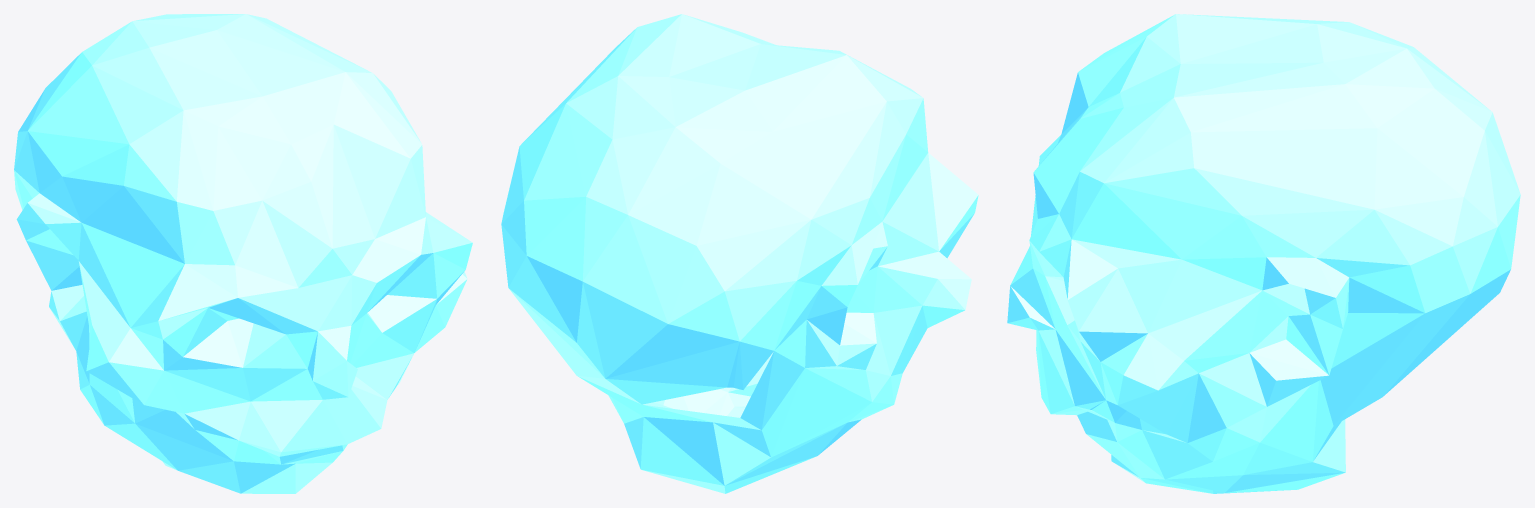
File: goblin-1.0.glb
3 views of the same model, side by side, from view 1: azimuth 30°, elevation 25°; view 2: azimuth 150°, elevation 25°; view 3: azimuth 270°, elevation 25° (orthographic). The views are drawn at different scales.
Parts seen in each view (by area): view 1: Goblin; view 2: Goblin; view 3: Goblin.
Part boxes in pixels (bbox=[...]): Goblin: bbox=[14, 14, 472, 493]; Goblin: bbox=[501, 14, 978, 493]; Goblin: bbox=[1007, 14, 1520, 493].
Size of the model in its own units: 0.306 by 0.3098 by 0.3381.
